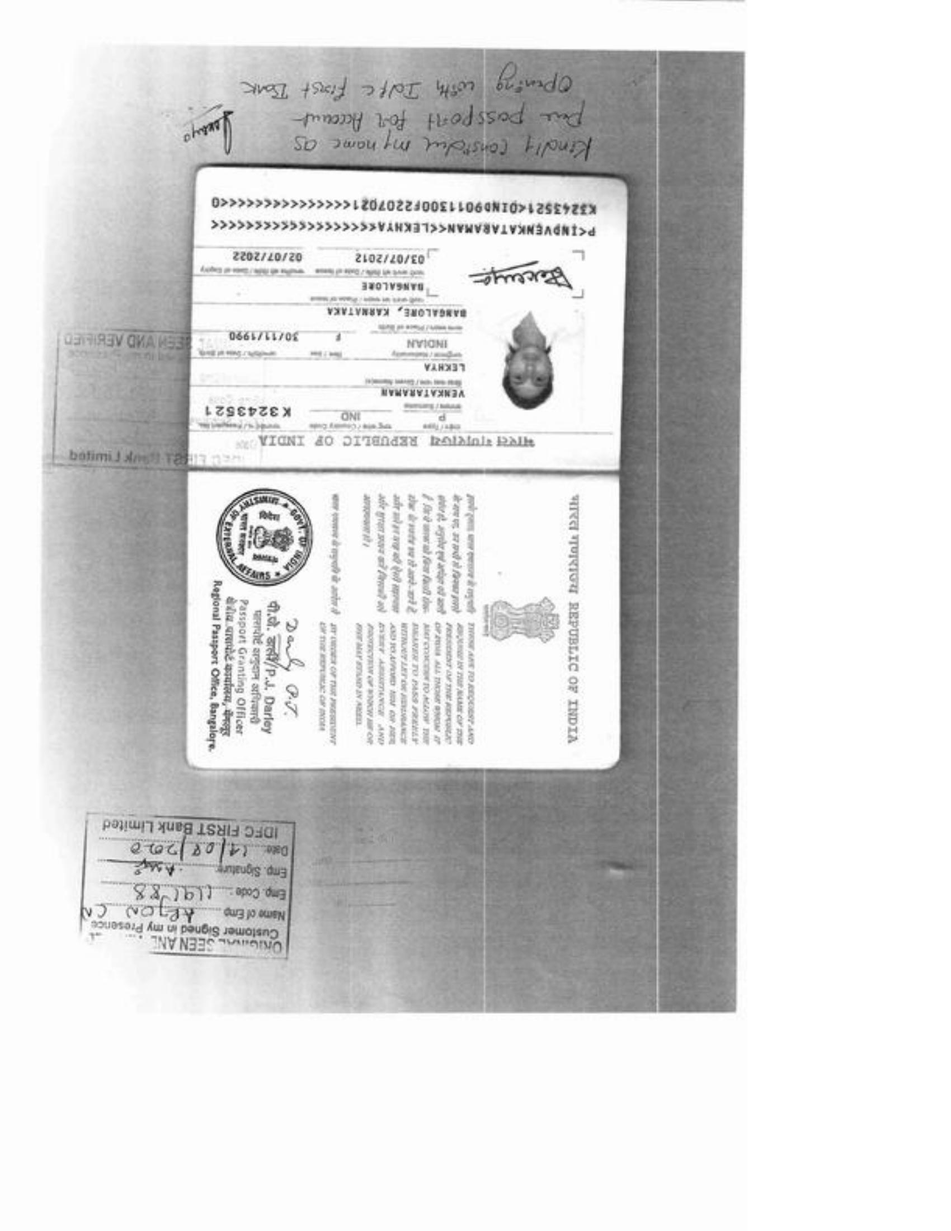DOB: (224, 325, 310, 346)
country_code: (333, 405, 367, 426)
date_of_issue: (348, 246, 431, 270)
details: (205, 191, 603, 242)
name: (371, 354, 471, 408)
nationality: (208, 245, 313, 273), (382, 333, 463, 353)
passport_no: (200, 397, 295, 421)
photo: (479, 305, 586, 422)
place_of_birth: (322, 303, 472, 322)
place_of_issue: (356, 275, 436, 299)
sex: (204, 242, 311, 274), (322, 325, 356, 348)
sign: (474, 258, 581, 297)
type: (430, 408, 455, 430)
